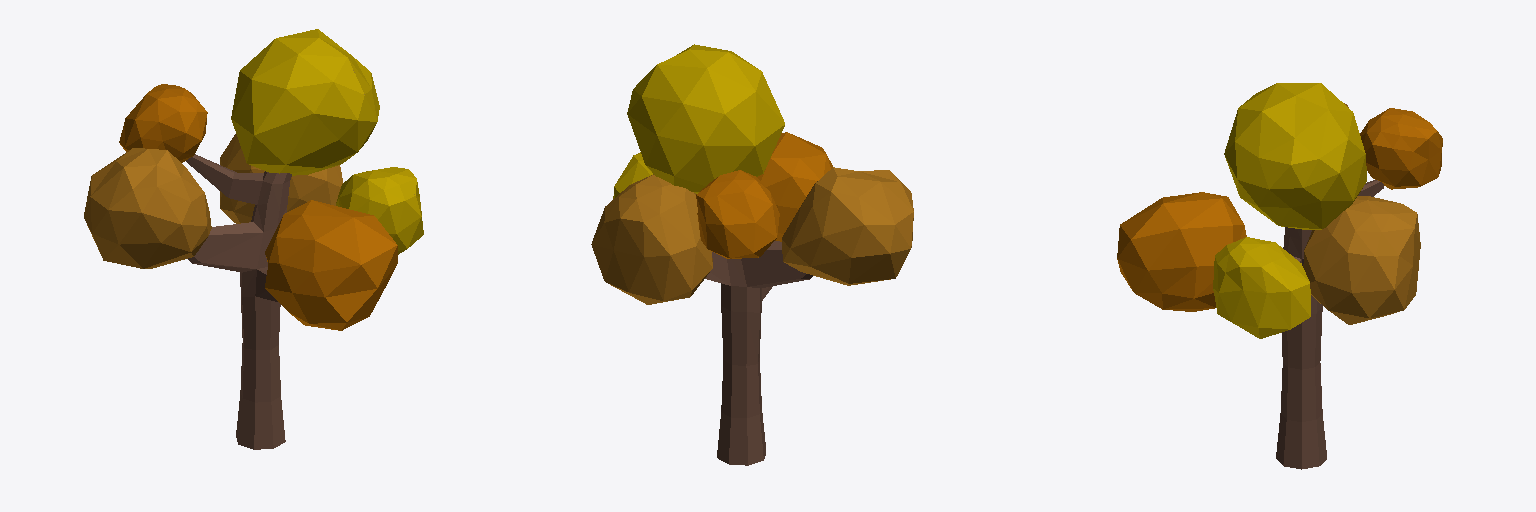
3 views of the same model, side by side, from view 1: azimuth 30°, elevation 25°; view 2: azimuth 150°, elevation 25°; view 3: azimuth 270°, elevation 25° (orthographic).
Visible parts, largest first — view 1: Broad_deciduous_tree_yellow_leaves; view 2: Broad_deciduous_tree_yellow_leaves; view 3: Broad_deciduous_tree_yellow_leaves.
Boxes of the visible parts, x1=… form: Broad_deciduous_tree_yellow_leaves: x1=84, y1=29, x2=423, y2=449; Broad_deciduous_tree_yellow_leaves: x1=591, y1=44, x2=913, y2=465; Broad_deciduous_tree_yellow_leaves: x1=1117, y1=83, x2=1442, y2=469.
Bounding box in the file's own units: 2.32 × 2.81 × 2.13.
Materials: 1 (1 with a texture image).